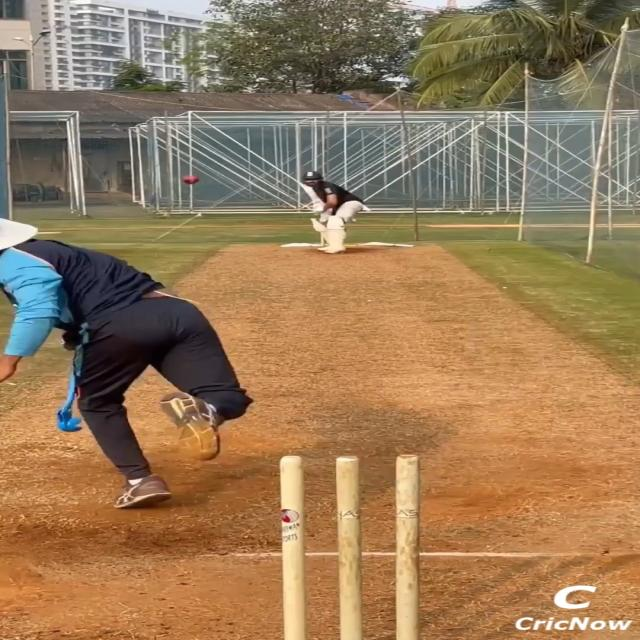ball: (182, 174, 200, 184)
stump: (276, 452, 429, 640)
